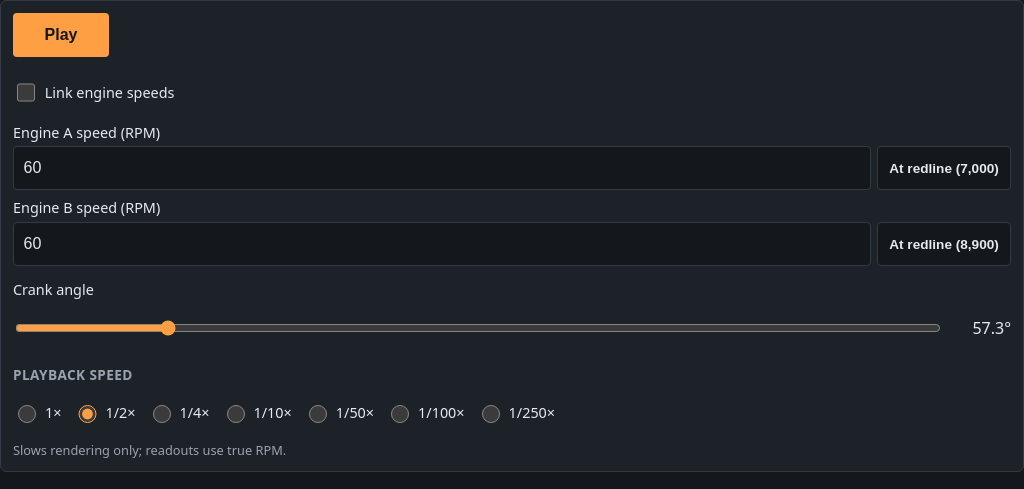
Test: AnimationControls › comparison mode: per-engine speed › re-linking hides the two inputs and re-syncs engine B's angle onto engine A's
Click the checkbox labelled "Link engine speeds" at (26, 93), box [17, 83, 35, 102]
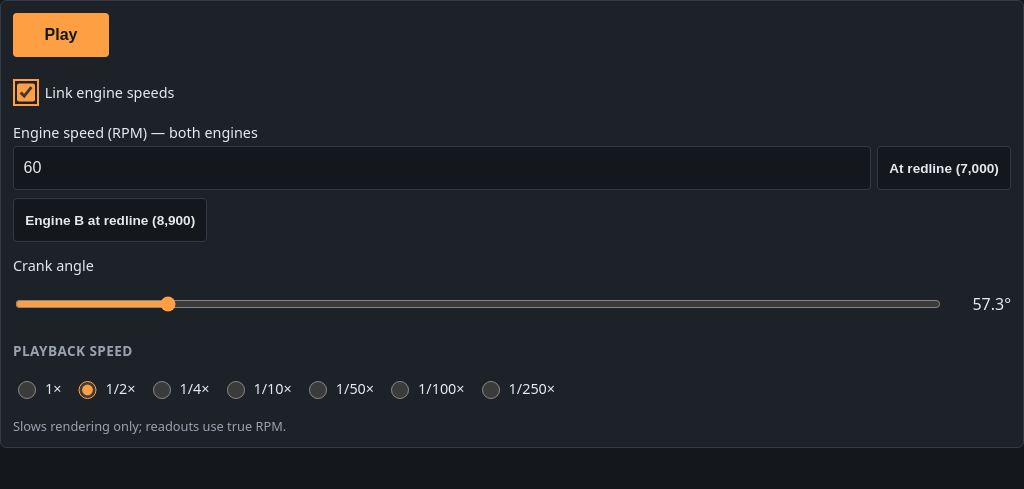
Check: the number field labelled "Engine speed (RPM) — both engines" is shown, box [13, 146, 871, 190]
Check: the label labelled "Engine A speed" is gone
